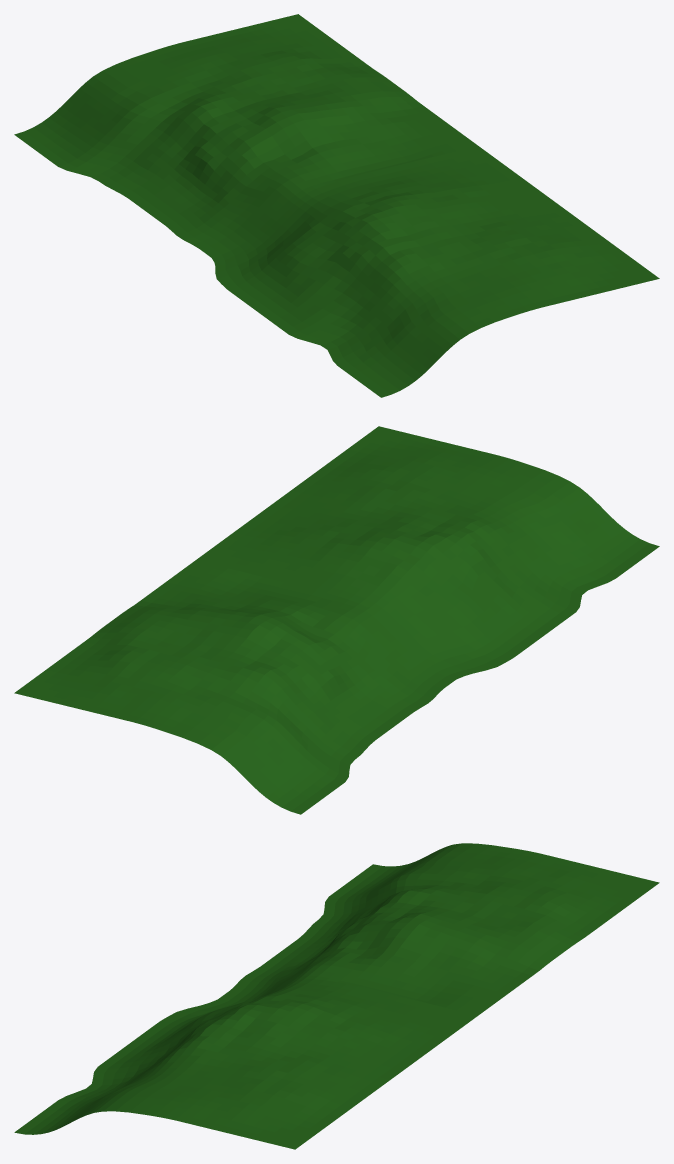
The model's file is Grass.fbx.
3 renders of one model, top to bottom at view 1: azimuth 30°, elevation 25°; view 2: azimuth 150°, elevation 25°; view 3: azimuth 330°, elevation 25°, orthographic.
Visible parts, largest first — view 1: Landscape.001; view 2: Landscape.001; view 3: Landscape.001.
Part boxes in pixels (x1=…): Landscape.001: x1=14, y1=14, x2=659, y2=397; Landscape.001: x1=14, y1=426, x2=659, y2=814; Landscape.001: x1=14, y1=843, x2=659, y2=1149.
Bounding box in the file's own units: 181 × 41.44 × 398.
